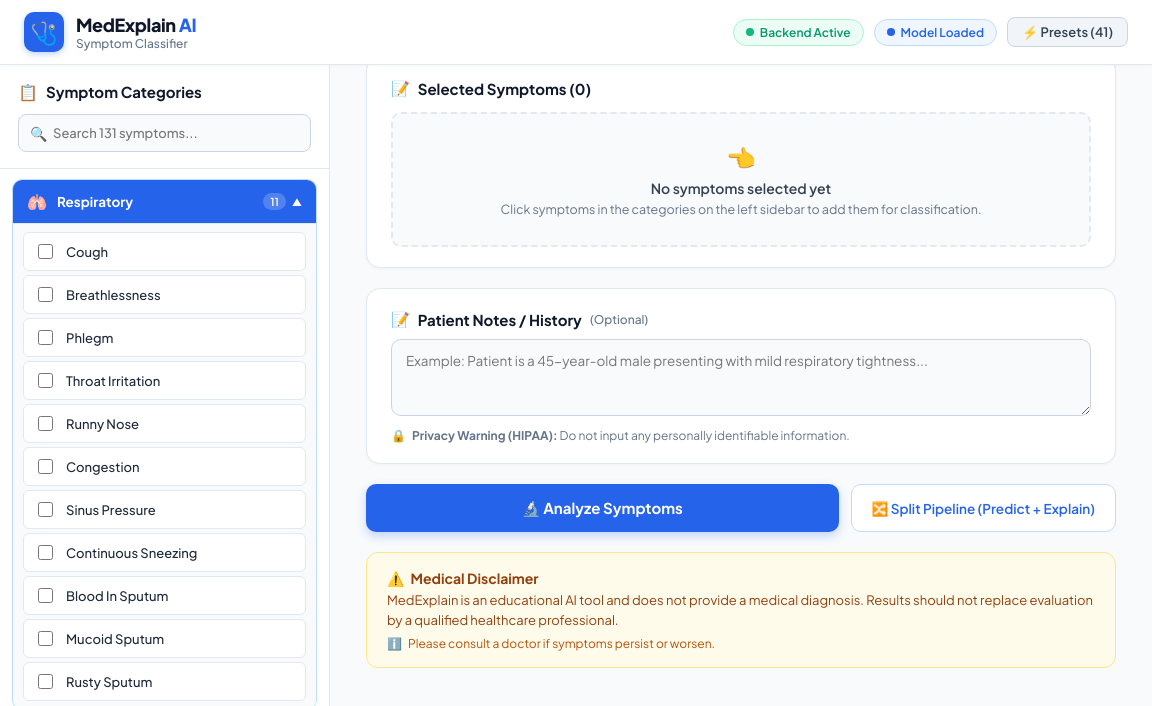
Test: MedExplain Frontend Integration & Safety Tests › should show error validation when analyzing with empty symptoms
(page scrolled)
What coordinates should you click on to do the following:
click the button "🔬 Analyze Symptoms"
I would click on:
 (602, 508)
Its box is x1=366 y1=484 x2=839 y2=532.
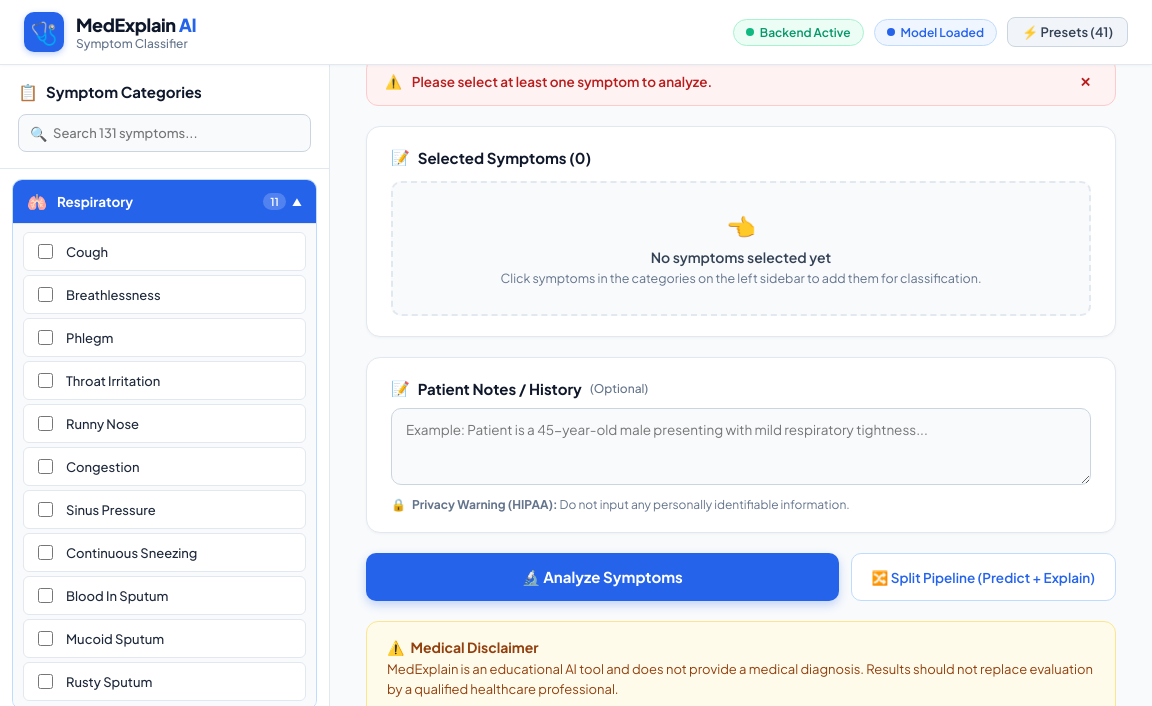
Expected: the text "Please select at least one symptom to analyze." is shown, x1=412 y1=73 x2=712 y2=90
